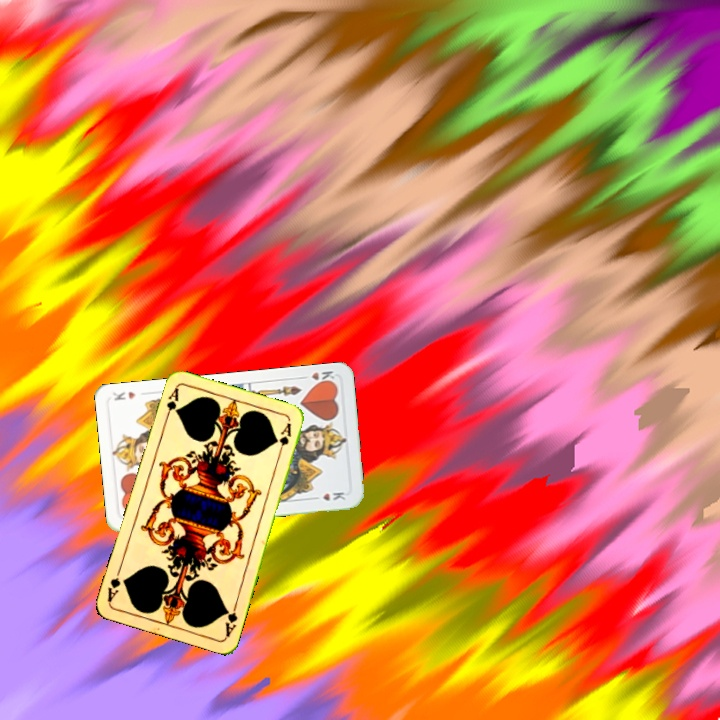GA: (161, 383, 181, 423), (221, 599, 240, 639)
HK: (297, 367, 338, 387)
